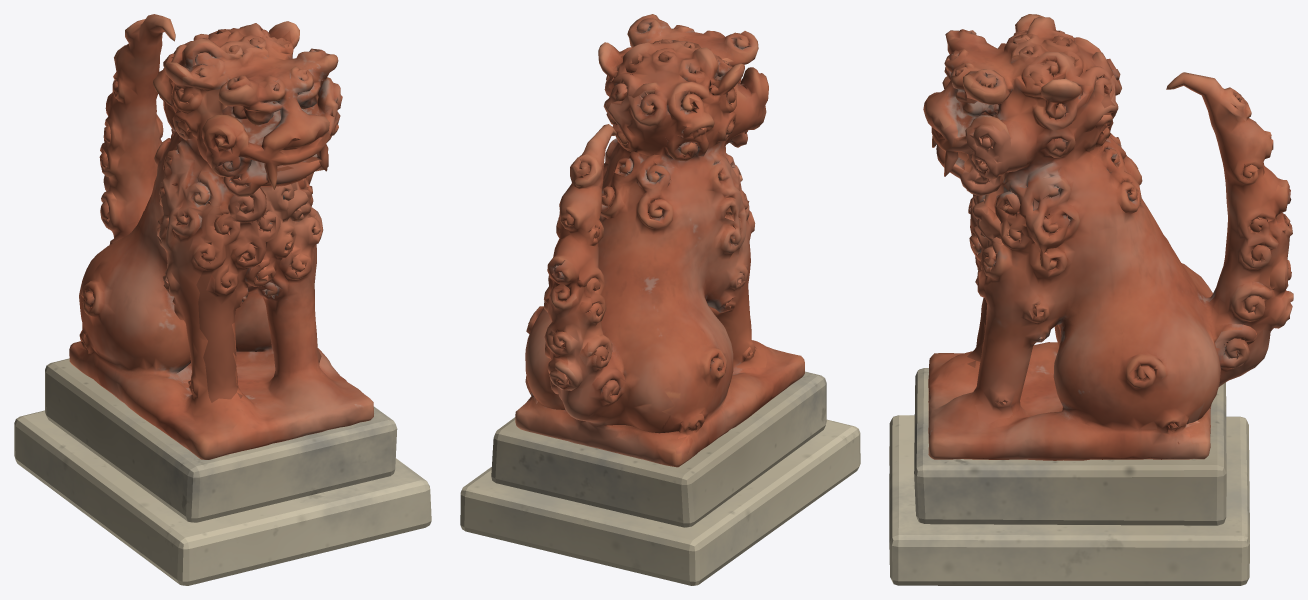
File: Shisa_Ungyo.gltf
The picture shows the model from 3 angles, left to right: view 1: azimuth 30°, elevation 25°; view 2: azimuth 150°, elevation 25°; view 3: azimuth 270°, elevation 25°; orthographic projection. The views are drawn at different scales.
Visible parts, largest first — view 1: Shisa_Ungyo; view 2: Shisa_Ungyo; view 3: Shisa_Ungyo.
Boxes of the visible parts, x1,y1,x2,y2 form: Shisa_Ungyo: (14, 14, 431, 585); Shisa_Ungyo: (460, 14, 860, 585); Shisa_Ungyo: (889, 14, 1293, 585).
Bounding box in the file's own units: 0.6089 × 1.09 × 0.8102.
2 materials, 2 textured.
